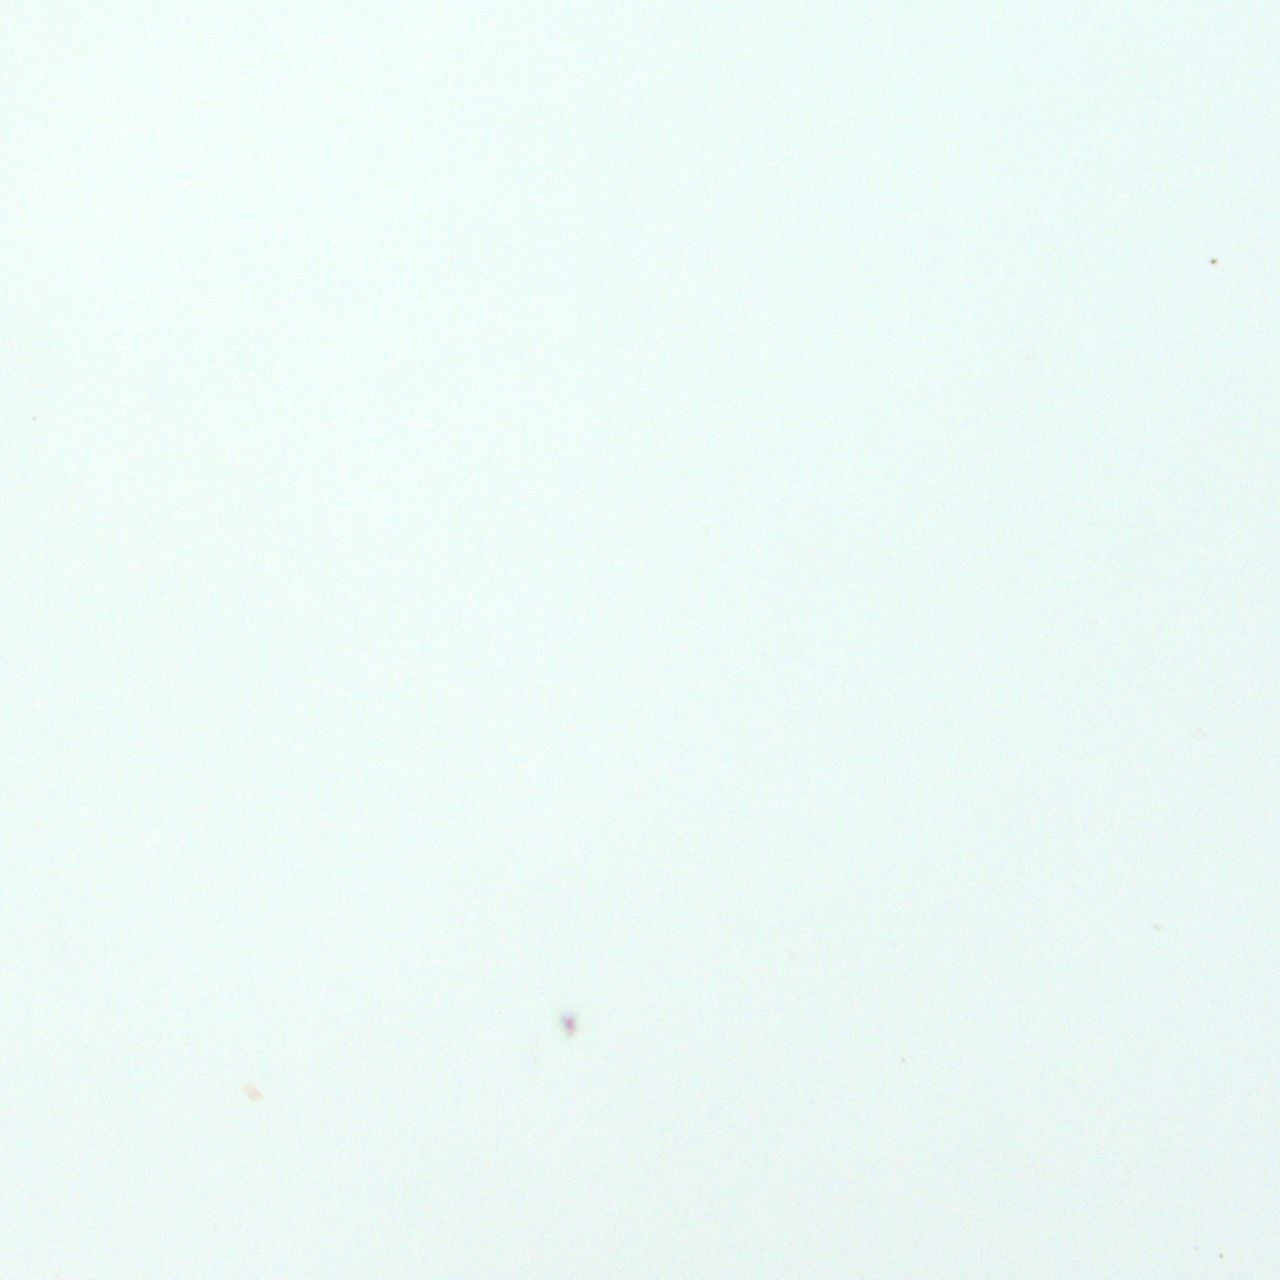dust: (239, 1077, 266, 1104), (563, 1014, 576, 1033)
